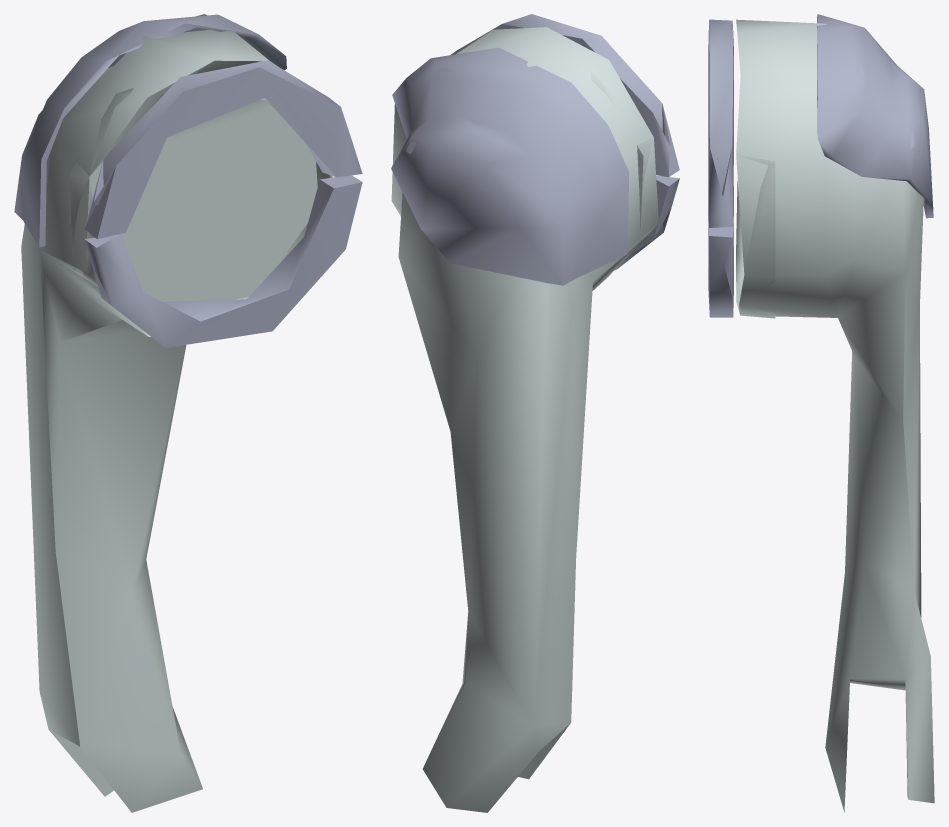
The model's file is thigh_dae.dae.
3 views of the same model, side by side, from view 1: azimuth 30°, elevation 25°; view 2: azimuth 150°, elevation 25°; view 3: azimuth 270°, elevation 25° (orthographic). The views are drawn at different scales.
Visible parts, largest first — view 1: thigh_dae; view 2: thigh_dae; view 3: thigh_dae.
Boxes of the visible parts, x1,y1,x2,y2 form: thigh_dae: (14,14,362,812); thigh_dae: (391,14,679,812); thigh_dae: (708,14,934,812).
Size of the model in its own units: 0.0964 by 0.0729 by 0.2767.
